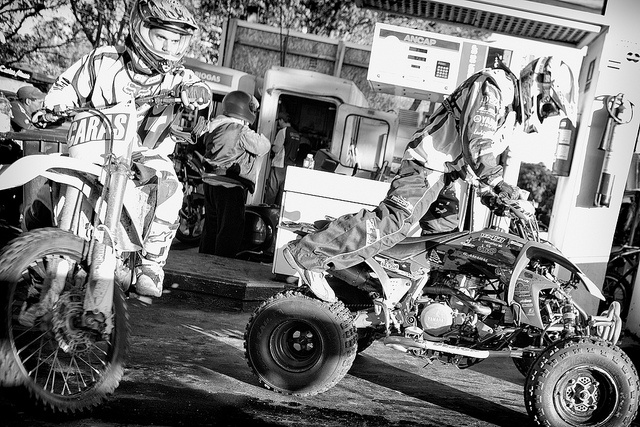non-vehicle: (235, 183, 640, 421), (0, 81, 209, 417), (176, 193, 281, 260)
